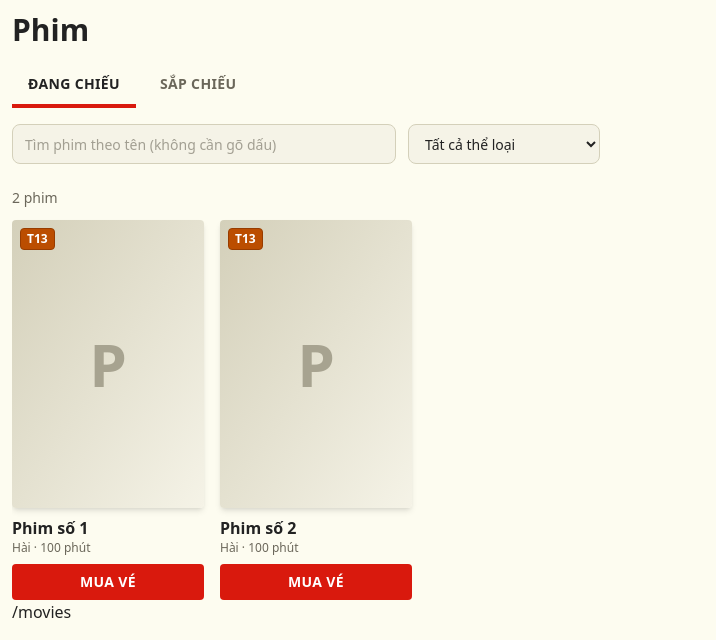
it: MoviesPage (P02) › ⭐ tìm kiếm chỉ gọi API sau khi ngừng gõ (debounce), không gọi ở mỗi phím
Expected: the link "Phim số 1" is shown, 12,517 -> 88,539
In the search field labelled "Tìm phim theo tên": coordinates (204, 144) 12,124 -> 396,164, type "nha ba"
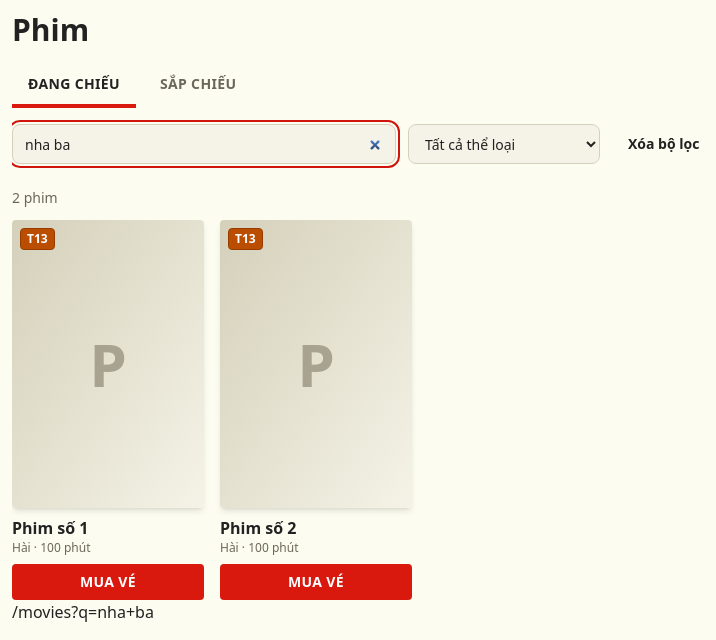
Expected: the text with test id "where" shows "q=nha+ba", 71,601 -> 154,623
